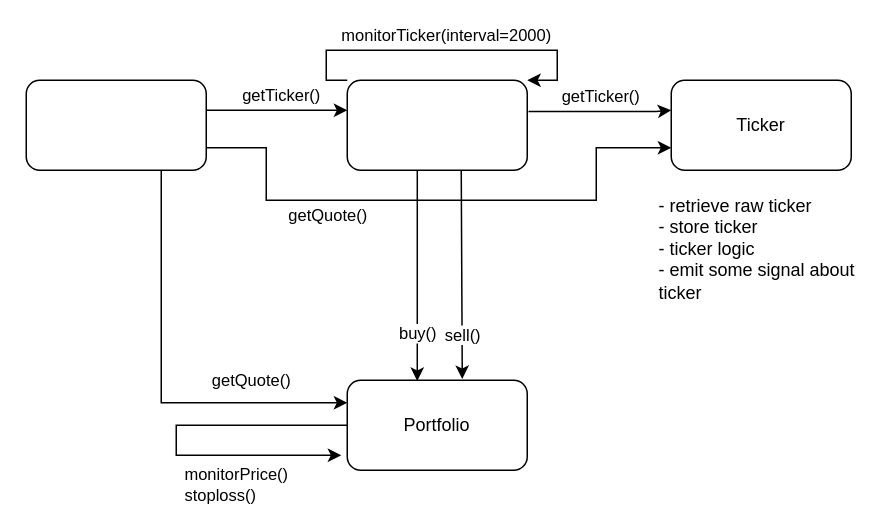
Some shapes in this 893 by 531 pixel diagram are drawn without their labels. The centre of each missing label's shape, as x and y in pixels:
"streaming" belongs at point (115, 124).
"TickerBot" belongs at point (436, 124).
